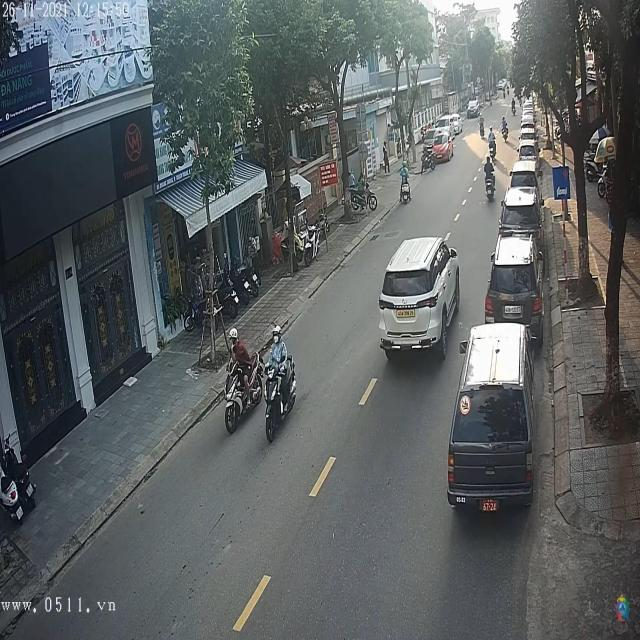car: (449, 318, 535, 509), (379, 235, 463, 358), (485, 234, 543, 330), (499, 190, 541, 236), (517, 143, 537, 163), (469, 99, 481, 118)
motorcycle: (222, 352, 265, 436), (260, 354, 299, 442)
